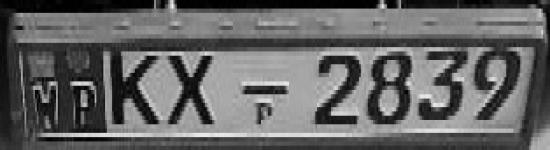-: (240, 71, 293, 105)
2: (312, 51, 362, 128)
3: (415, 45, 470, 126)
8: (364, 42, 415, 140)
9: (472, 36, 522, 130)
K: (104, 36, 168, 136)
P: (68, 68, 100, 136)
W: (24, 71, 66, 136)
X: (169, 46, 217, 135)
